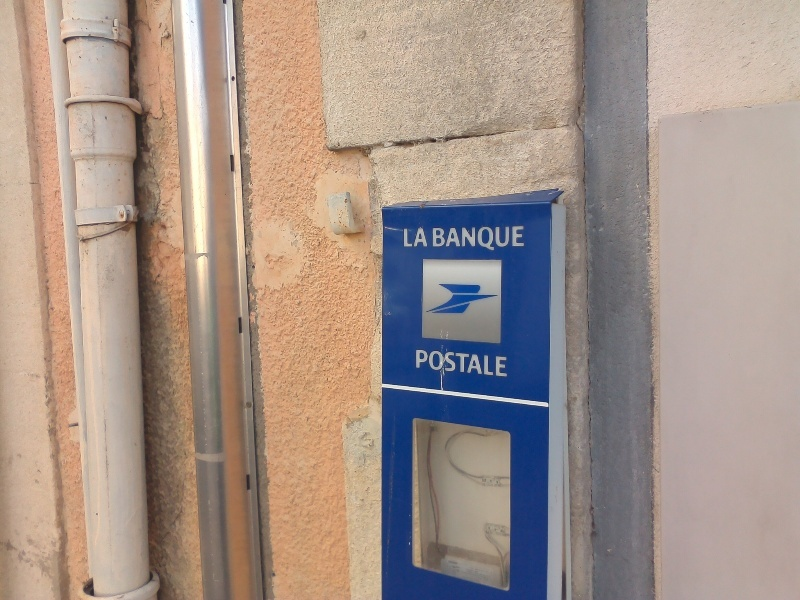text: (433, 224, 448, 253), (449, 224, 464, 253), (465, 224, 480, 253), (481, 224, 496, 253), (497, 224, 512, 253), (417, 349, 432, 378), (433, 349, 448, 378), (449, 349, 464, 378), (465, 349, 480, 378), (481, 349, 496, 378), (513, 224, 526, 253), (497, 349, 509, 378), (404, 228, 416, 248), (417, 228, 429, 248)
